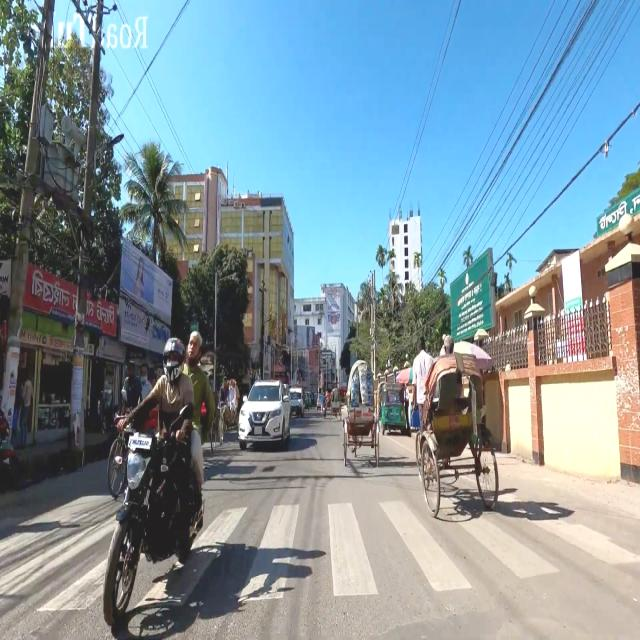white: (238, 378, 290, 449)
